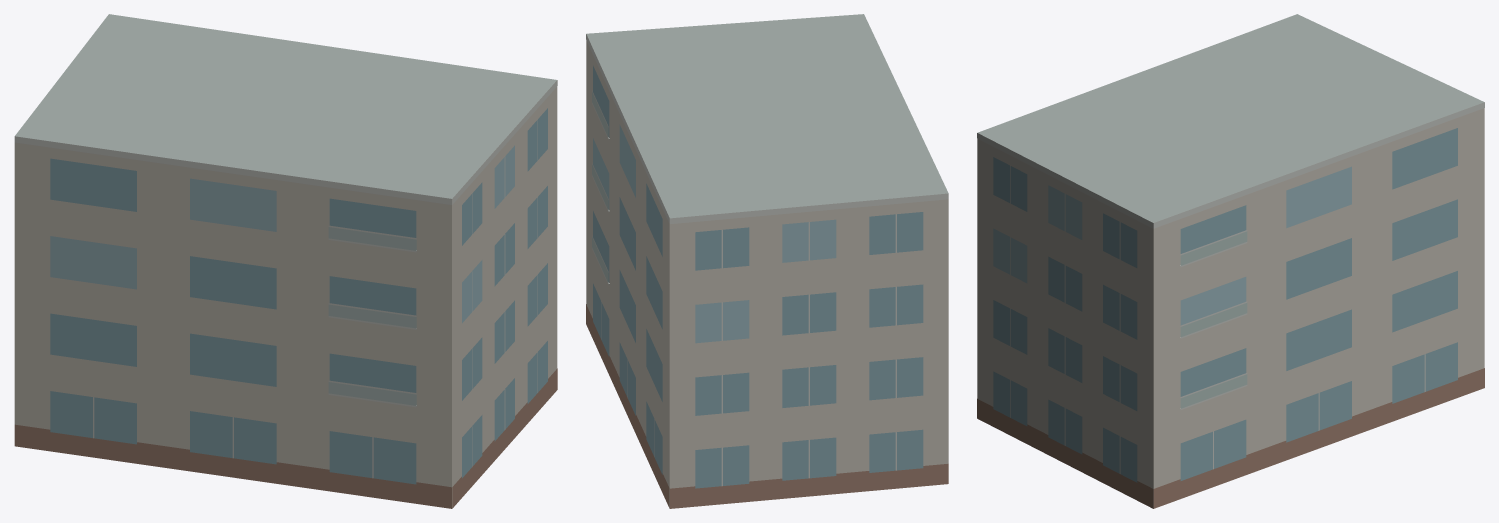
File: survey-upis-32994075.glb
3 renders of one model, left to right at view 1: azimuth 30°, elevation 25°; view 2: azimuth 150°, elevation 25°; view 3: azimuth 270°, elevation 25°, orthographic. The views are drawn at different scales.
Parts seen in each view (by area): view 1: survey-upis-32994075.tmp; view 2: survey-upis-32994075.tmp; view 3: survey-upis-32994075.tmp.
Part boxes in pixels (x1,y1,x2,y2): survey-upis-32994075.tmp: [14, 14, 557, 508]; survey-upis-32994075.tmp: [586, 14, 948, 508]; survey-upis-32994075.tmp: [977, 14, 1484, 508].
Bounding box in the file's own units: 19.15 × 12.2 × 19.64.
